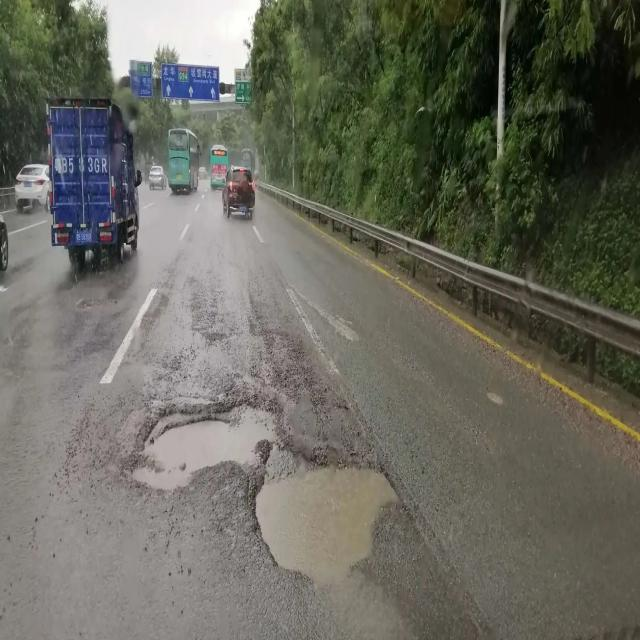Pothole: (248, 456, 402, 590), (127, 395, 275, 492)
